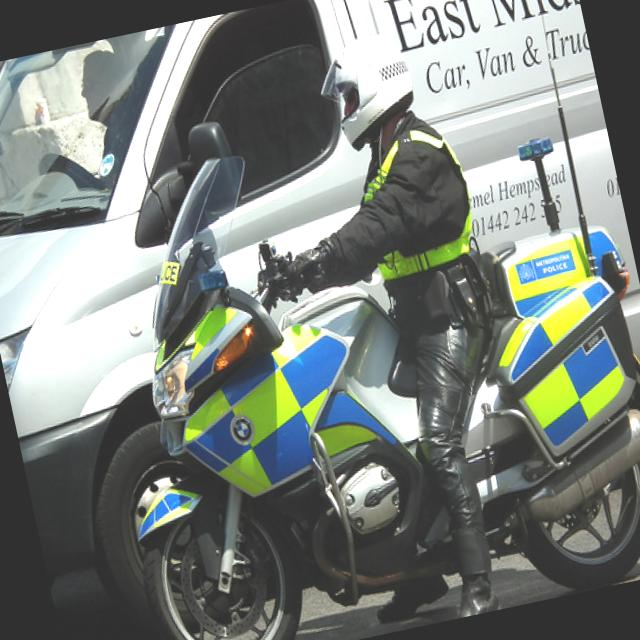Vehicle: (0, 0, 640, 640), (40, 0, 640, 640)
